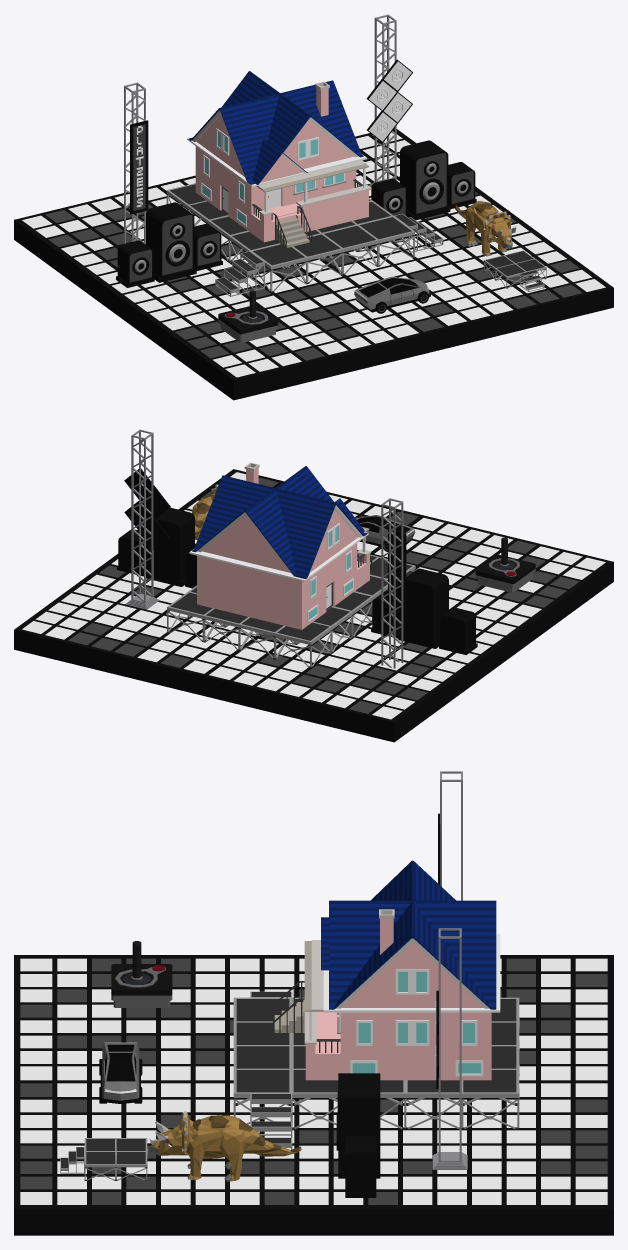
The picture shows the model from 3 angles, top to bottom: view 1: azimuth 30°, elevation 25°; view 2: azimuth 150°, elevation 25°; view 3: azimuth 270°, elevation 25°; orthographic projection. The views are drawn at different scales.
Parts seen in each view (by area): view 1: Cube.008, Cube.313, ANIMAL_Triceratops, VEHICLES_CYBERTRUCK, OBJRANDOM_JOYSTICK; view 2: Cube.008, Cube.313, OBJRANDOM_JOYSTICK, VEHICLES_CYBERTRUCK, ANIMAL_Triceratops; view 3: Cube.008, Cube.313, ANIMAL_Triceratops, OBJRANDOM_JOYSTICK, VEHICLES_CYBERTRUCK.
Boxes of the visible parts, x1,y1,x2,y2 form: Cube.008: [14, 14, 613, 400]; Cube.313: [187, 71, 371, 248]; ANIMAL_Triceratops: [455, 201, 516, 256]; VEHICLES_CYBERTRUCK: [354, 276, 430, 313]; OBJRANDOM_JOYSTICK: [218, 290, 278, 342]; Cube.008: [14, 429, 613, 742]; Cube.313: [189, 462, 372, 629]; OBJRANDOM_JOYSTICK: [475, 537, 535, 592]; VEHICLES_CYBERTRUCK: [355, 515, 415, 552]; ANIMAL_Triceratops: [192, 484, 218, 539]; Cube.008: [14, 771, 613, 1235]; Cube.313: [272, 860, 500, 1080]; ANIMAL_Triceratops: [148, 1111, 301, 1181]; OBJRANDOM_JOYSTICK: [111, 941, 172, 1007]; VEHICLES_CYBERTRUCK: [99, 1042, 142, 1103].
Bounding box in the file's own units: 4000 × 1945 × 4000.
Materials: 41 (1 with a texture image).
